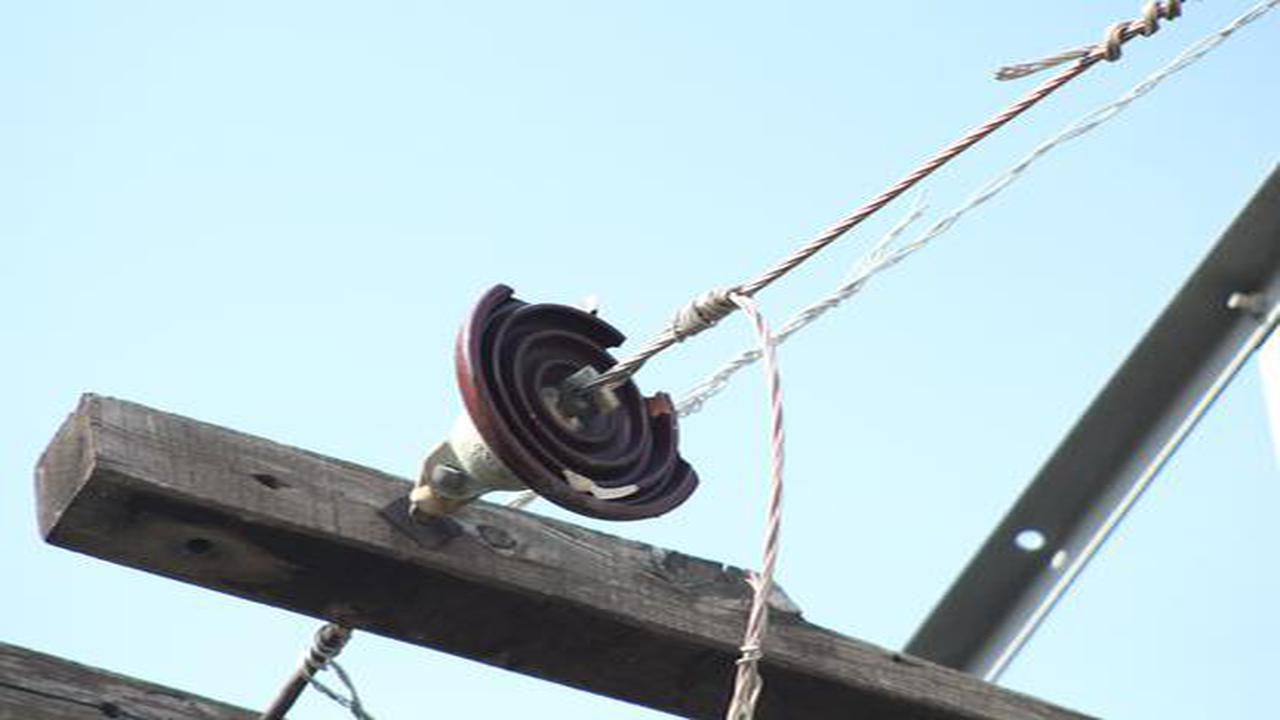defect_disc: (409, 275, 710, 535)
